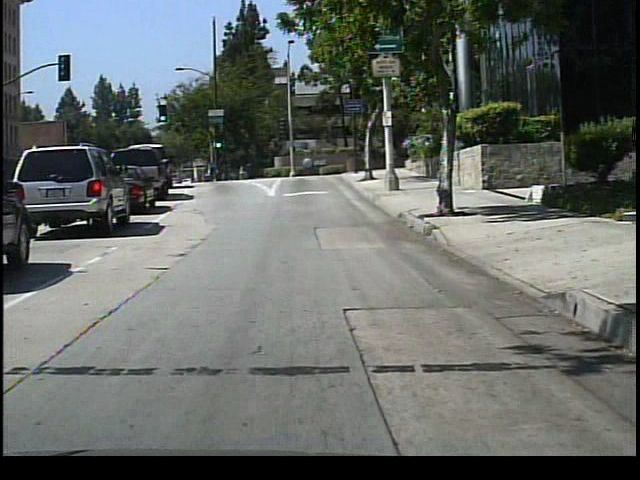person: (209, 159, 223, 183)
